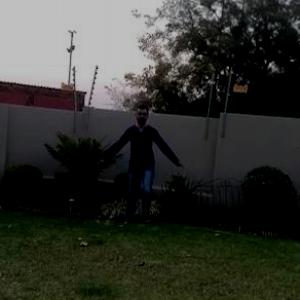land: (92, 101, 187, 226)
